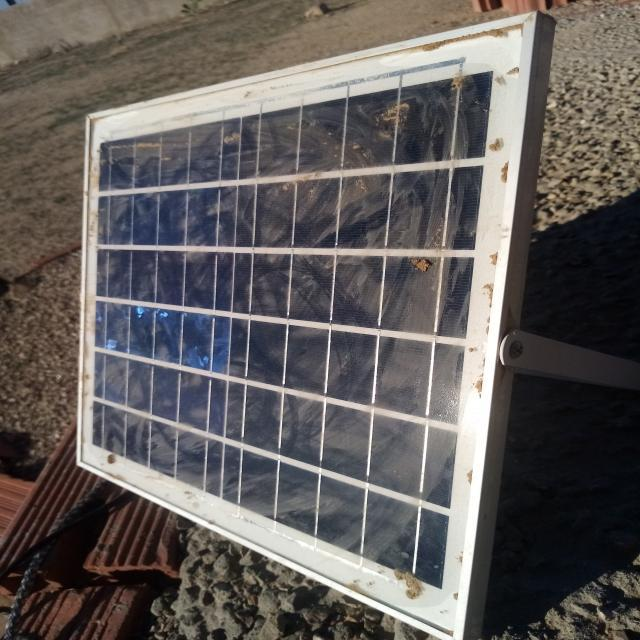faulty: (78, 17, 535, 635)
